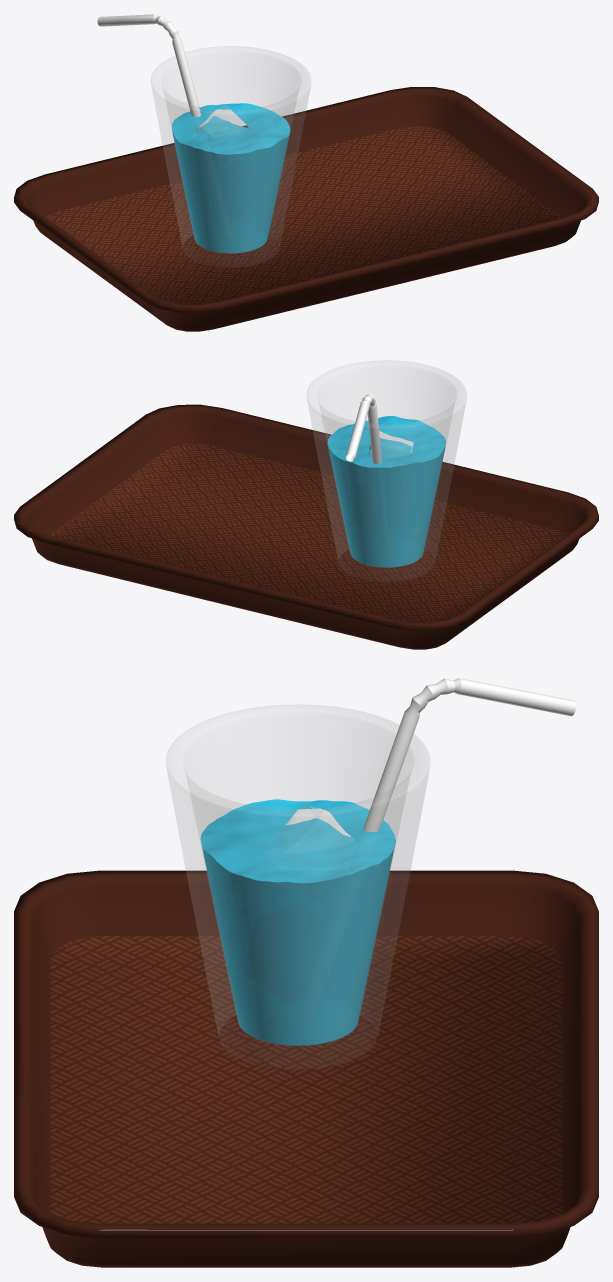
Rendered from tray_water.glb.
The picture shows the model from 3 angles, top to bottom: view 1: azimuth 30°, elevation 25°; view 2: azimuth 150°, elevation 25°; view 3: azimuth 270°, elevation 25°; orthographic projection. The views are drawn at different scales.
Parts seen in each view (by area): view 1: Cube, Vert_10, Circle_11, Vert.001_14; view 2: Cube, Vert_10, Circle_11, Vert.001_14; view 3: Cube, Vert_10, Circle_11, Vert.001_14.
Boxes of the visible parts, x1,y1,x2,y2 form: Cube: [14, 87, 598, 331]; Vert_10: [151, 46, 310, 253]; Circle_11: [172, 103, 290, 253]; Vert.001_14: [97, 14, 203, 130]; Cube: [14, 404, 598, 649]; Vert_10: [307, 360, 466, 567]; Circle_11: [327, 416, 445, 567]; Vert.001_14: [345, 394, 381, 463]; Cube: [14, 870, 598, 1267]; Vert_10: [166, 704, 430, 1045]; Circle_11: [200, 799, 395, 1045]; Vert.001_14: [363, 678, 576, 831].
Size of the model in its own units: 0.9263 by 0.4141 by 0.6374.
Materials: 5 (1 with a texture image).
